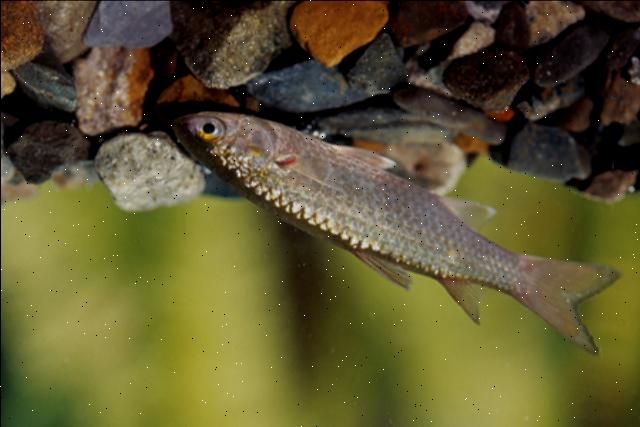Mulut: (164, 96, 224, 164)
Sirip Anal: (442, 187, 504, 237)
Sirip Ekor: (503, 246, 622, 362)
Sirip Perut: (340, 126, 402, 190)
Sirip Punggung: (346, 238, 489, 336)
